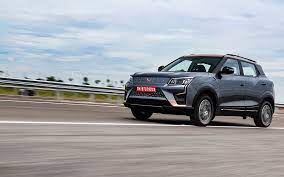XUV 400: (122, 50, 277, 129)
